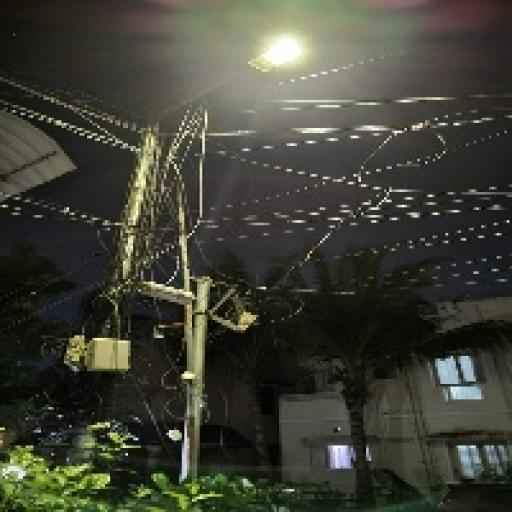Working: (244, 30, 310, 79)
